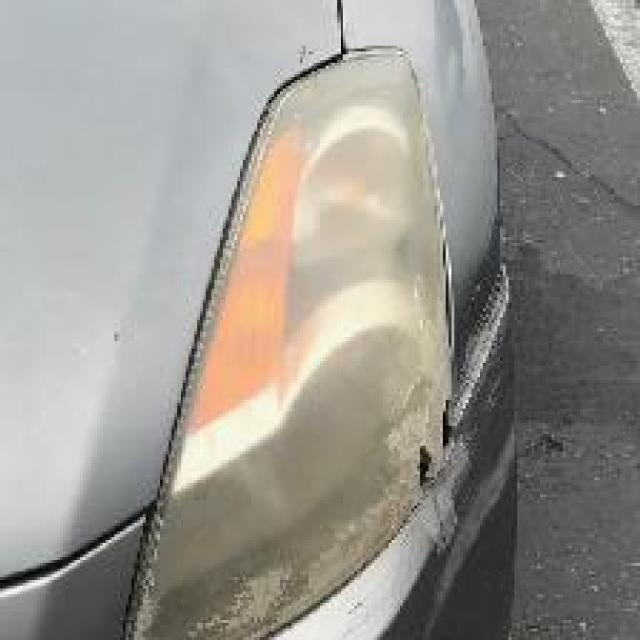head_lamp_minor: (177, 91, 449, 574)
